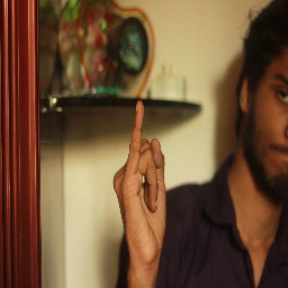I: (108, 98, 178, 249)
